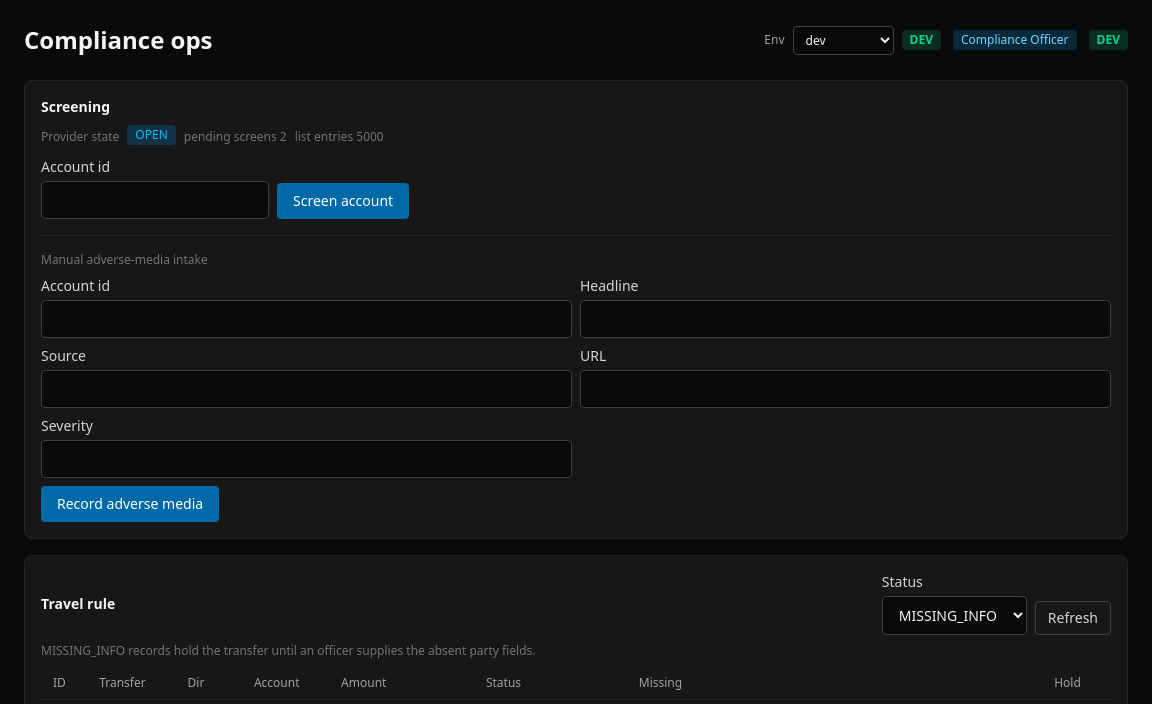
Test: CompliancePage › screens an account and renders hits plus the provider gate
The width and height of the screenshot is (1152, 704).
Expected: the text "OPEN" is shown, [127, 125, 176, 145]
Step 1. Type "1001" into the 1st field labelled "Account id" → (155, 200), box [41, 181, 269, 219]
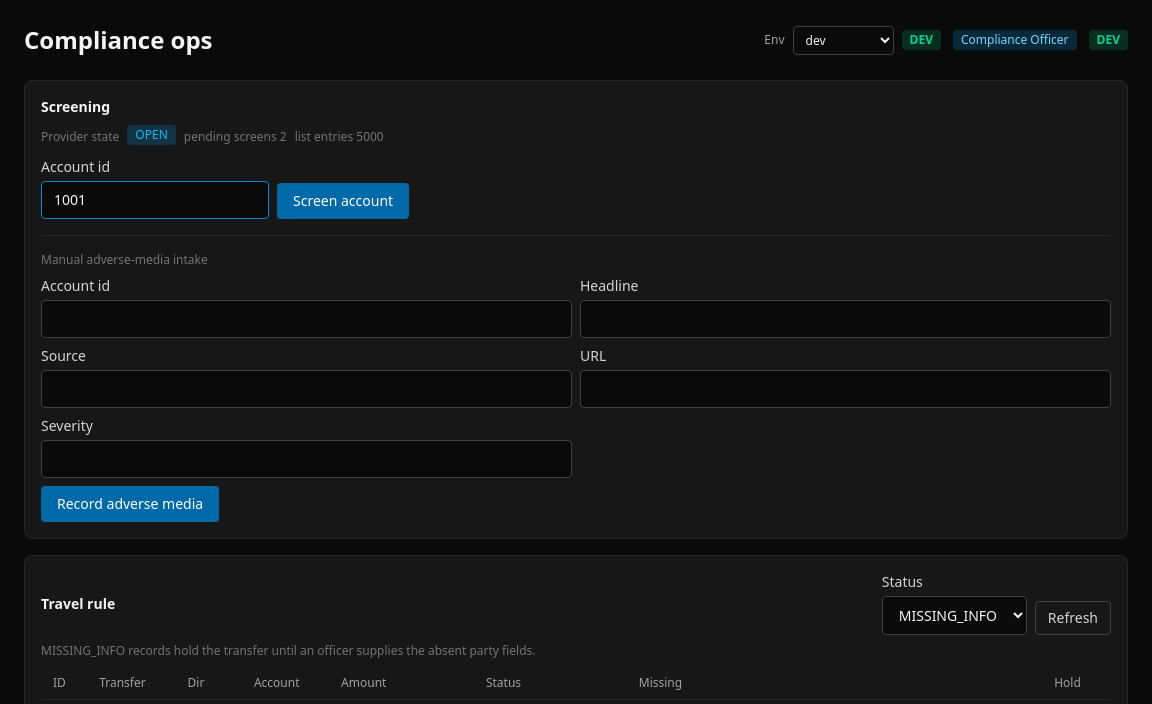
Step 2. Click the button "Screen account" → (343, 201), box [277, 183, 409, 219]
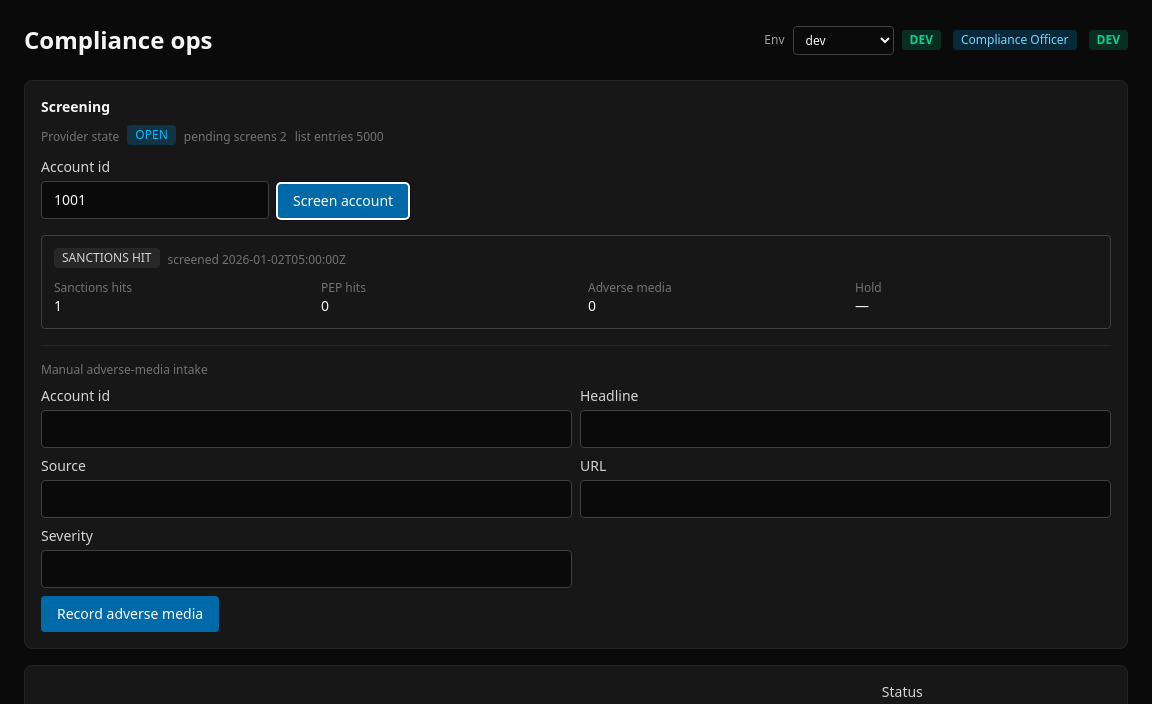
Now the text "SANCTIONS HIT" is shown, box [54, 248, 160, 268]
